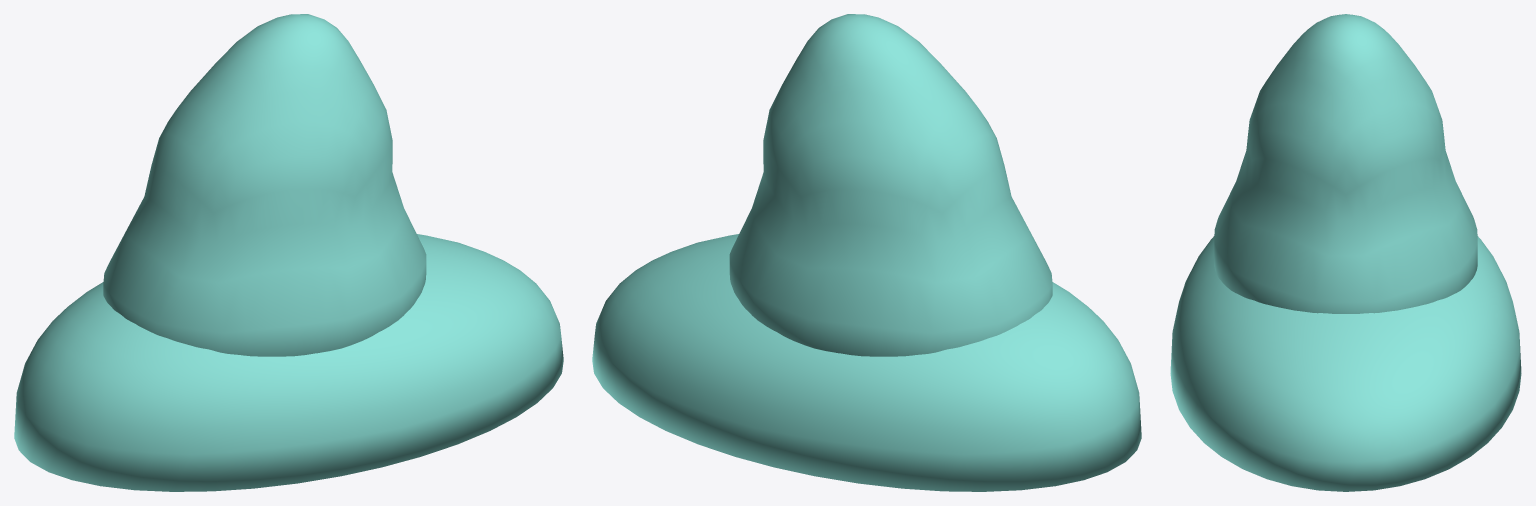
Rendered from head_boss.glb.
3 views of the same model, side by side, from view 1: azimuth 30°, elevation 25°; view 2: azimuth 150°, elevation 25°; view 3: azimuth 270°, elevation 25° (orthographic). The views are drawn at different scales.
Visible parts, largest first — view 1: BossShoulders, BossHead; view 2: BossShoulders, BossHead; view 3: BossShoulders, BossHead.
Boxes of the visible parts, x1,y1,x2,y2 form: BossShoulders: (14, 234, 563, 491); BossHead: (103, 14, 426, 356); BossShoulders: (592, 234, 1141, 491); BossHead: (729, 14, 1052, 356); BossShoulders: (1170, 236, 1521, 491); BossHead: (1214, 14, 1477, 313).
Size of the model in its own units: 1.6 by 1.12 by 1.
